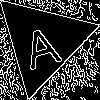A: (18, 16, 63, 70)
